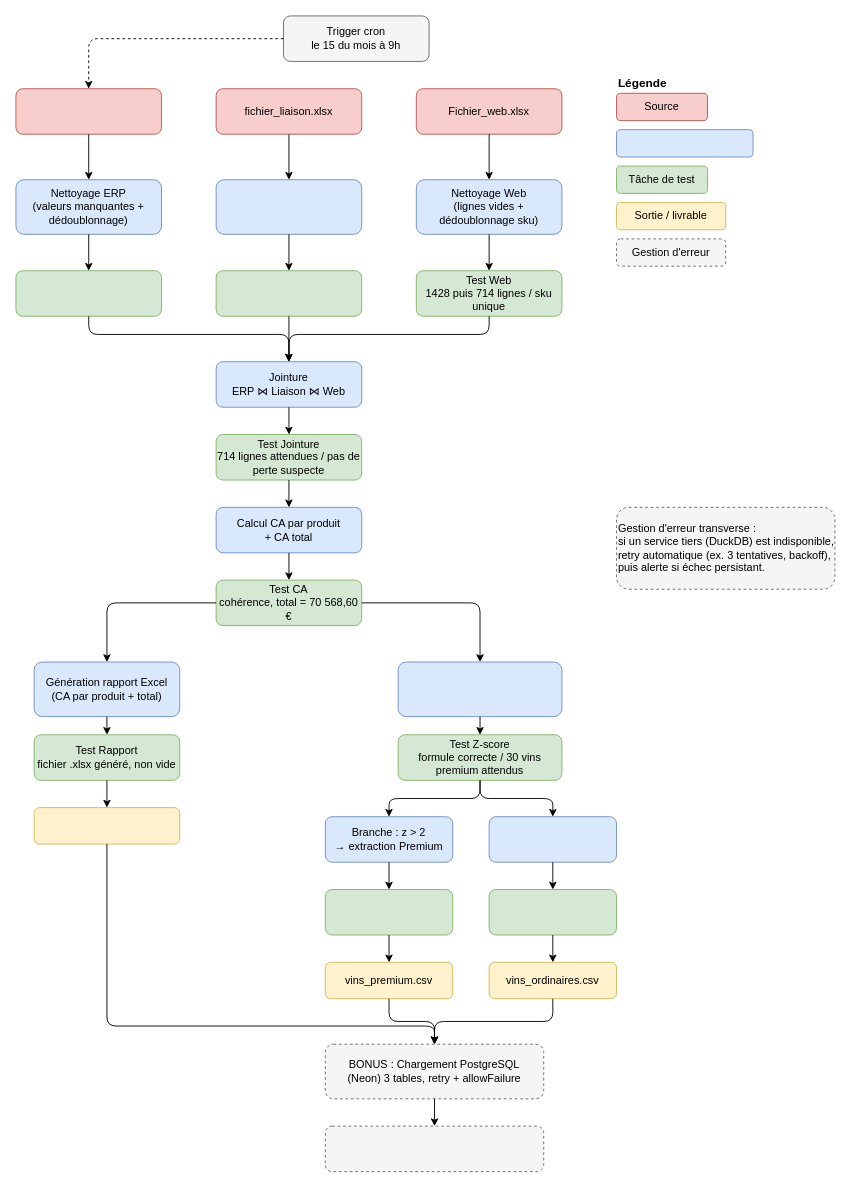
Image size: 851x1188. Some labels were removed from this diagram. Each missing label, with the centre of its shape:
Branche : z <= 2 → extraction Ordinaire: pixel 552 839
Fichier_erp.xlsx: pixel 88 111
Nettoyage Liaison (dédoublonnage + gestion id_web nulls/doublons): pixel 288 206
rapport_ca.xlsx: pixel 106 825
Test cohérence Postgres lignes / CA total / premium: pixel 434 1148
Test ERP 0 doublon / 0 null / 825 lignes: pixel 88 293
Test Liaison product_id unique / 825 lignes: pixel 288 293
Test Ordinaire total = 714 - 30: pixel 552 912
Test Premium 30 lignes attendues: pixel 388 912
Tâche (nettoyage/traitement): pixel 684 143
Z-score (Python/pandas) z = (prix - moyenne) / écart-type: pixel 479 689
